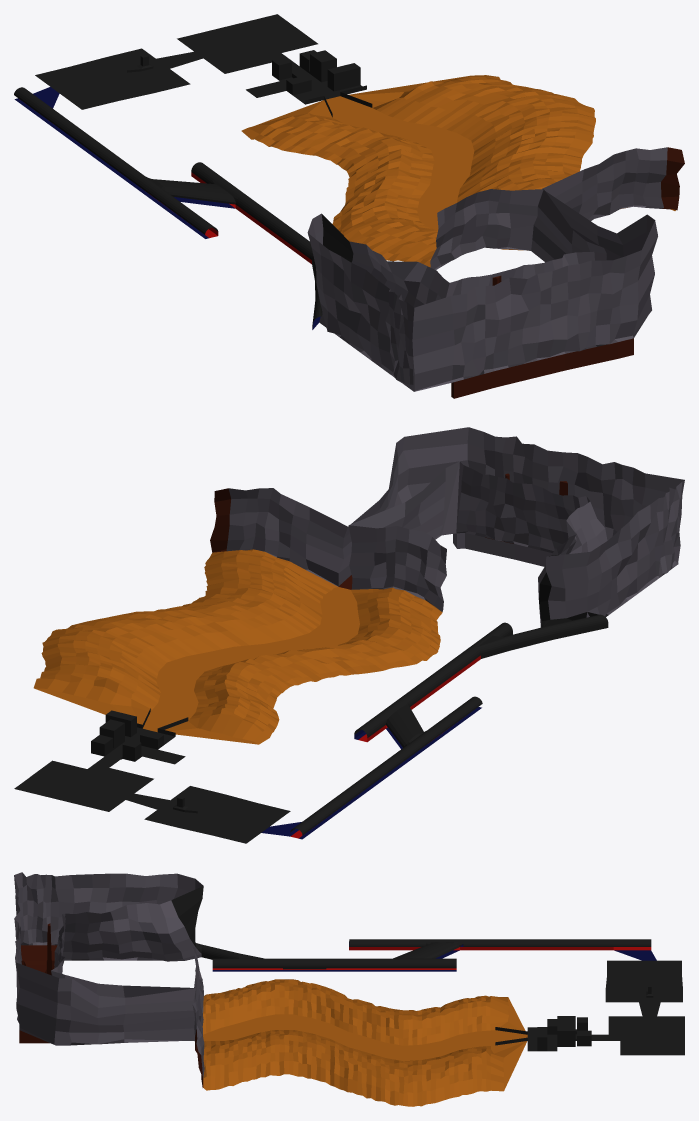
Rendered from trackv2seperated.obj.
3 renders of one model, top to bottom at view 1: azimuth 30°, elevation 25°; view 2: azimuth 150°, elevation 25°; view 3: azimuth 270°, elevation 25°, orthographic. The views are drawn at different scales.
Parts seen in each view (by area): view 1: Grid, Grid.001; view 2: Grid, Grid.001; view 3: Grid, Grid.001.
Part boxes in pixels (<box>): Grid: <box>14,14,684,398</box>; Grid.001: <box>14,36,474,367</box>; Grid: <box>14,427,684,843</box>; Grid.001: <box>66,575,647,839</box>; Grid: <box>14,872,684,1106</box>; Grid.001: <box>21,945,660,1061</box>.
Bounding box in the file's own units: 1091 × 257 × 1841.
